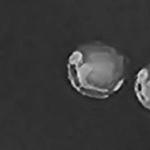colony: (66, 38, 132, 99), (133, 51, 150, 120)
